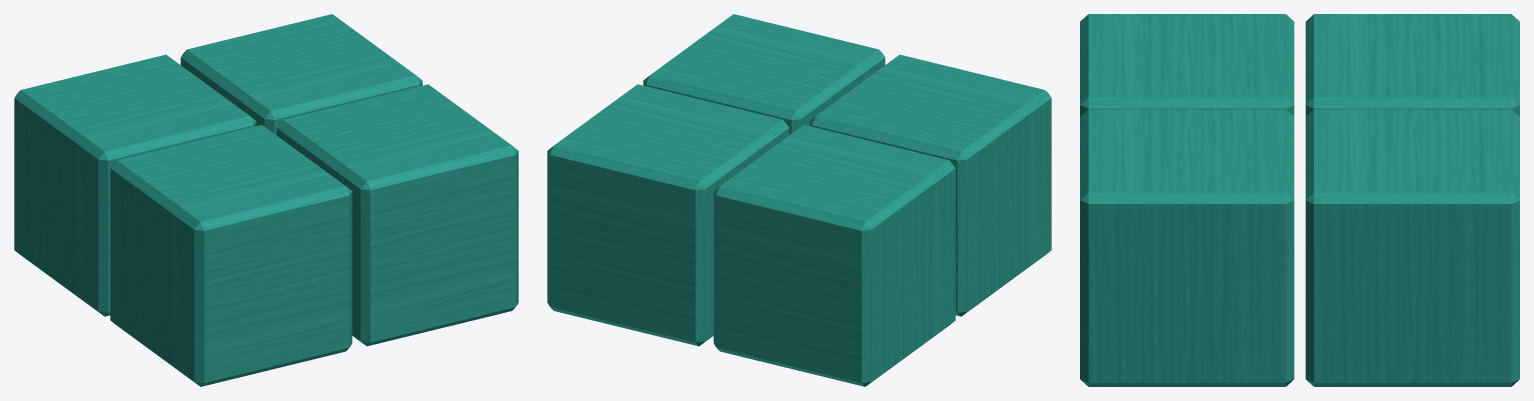
Rendered from piece_O.glb.
3 views of the same model, side by side, from view 1: azimuth 30°, elevation 25°; view 2: azimuth 150°, elevation 25°; view 3: azimuth 270°, elevation 25° (orthographic). The views are drawn at different scales.
Parts seen in each view (by area): view 1: piece_O; view 2: piece_O; view 3: piece_O.
Boxes of the visible parts, x1=… form: piece_O: x1=14, y1=14, x2=518, y2=386; piece_O: x1=547, y1=14, x2=1051, y2=386; piece_O: x1=1080, y1=14, x2=1519, y2=386.
Bounding box in the file's own units: 0.078 × 0.038 × 0.078.
Materials: 1 (1 with a texture image).
